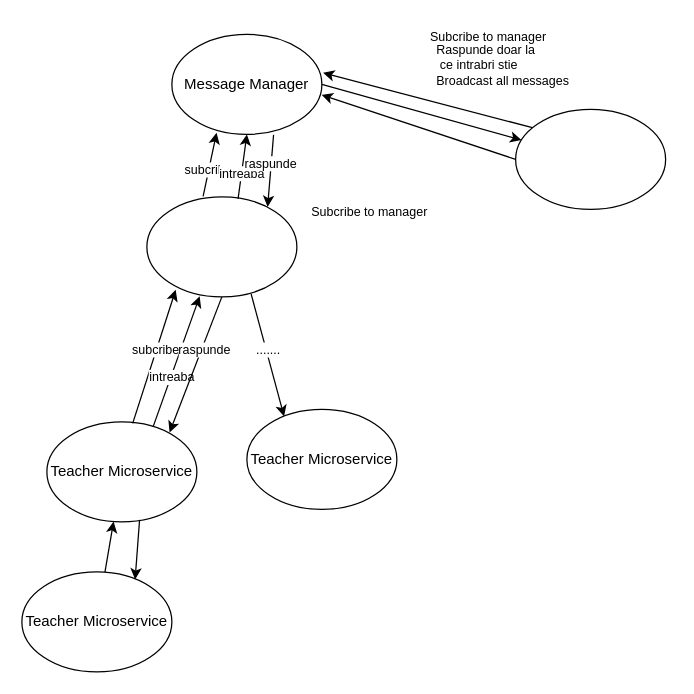
Image size: 694x694. Some labels were removed from this diagram. Each missing label, with the centre of its shape:
"Student Microservice" belongs at point (590, 158).
"TeacherManager Microservice" belongs at point (221, 246).
